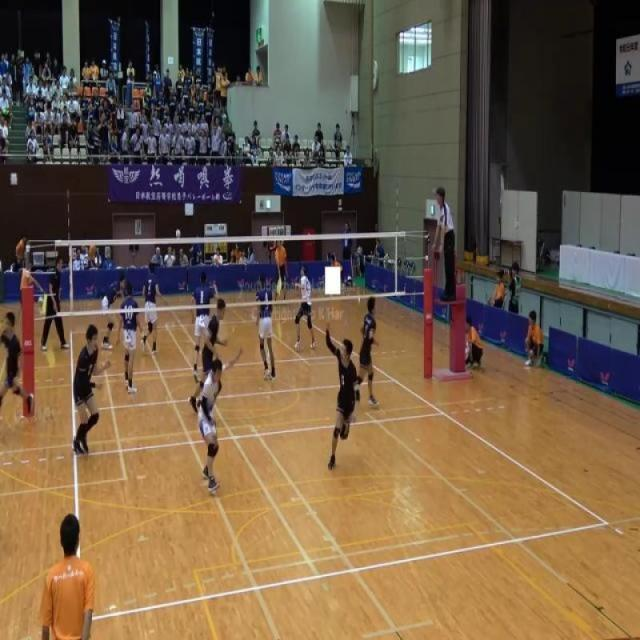volleyball: (37, 296, 44, 306), (176, 228, 180, 238)
